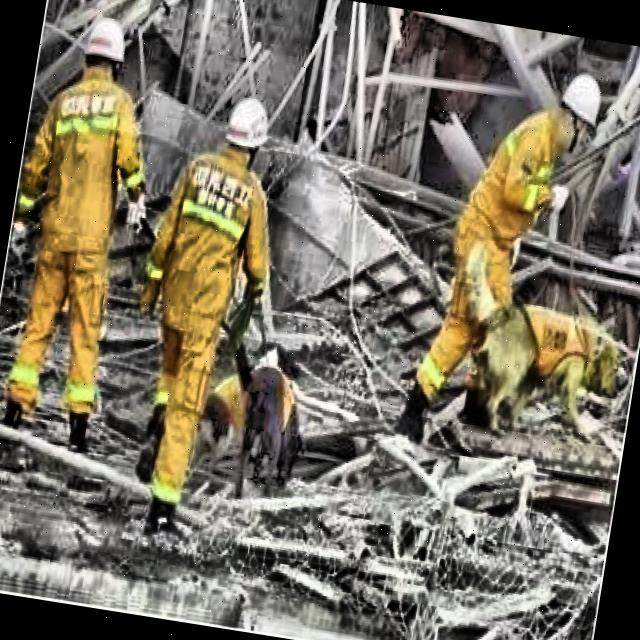helmet: (550, 67, 606, 155), (217, 90, 274, 172), (77, 12, 132, 90)
